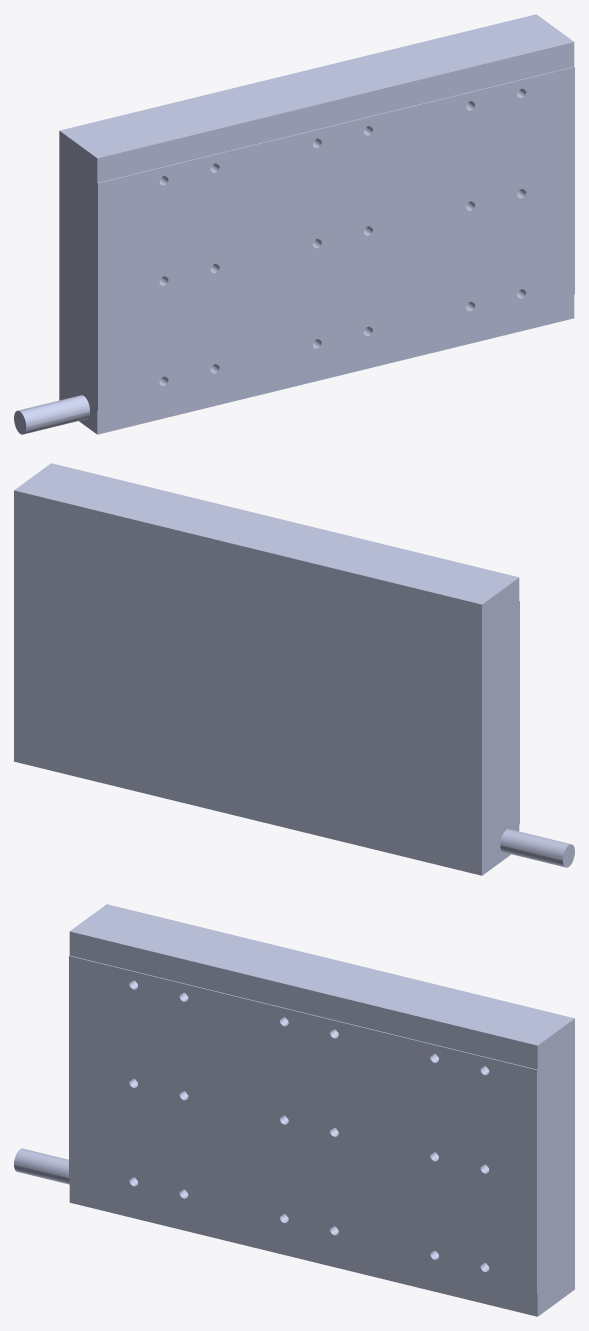
File: MTC-12.glb
3 views of the same model, one above another, from view 1: azimuth 30°, elevation 25°; view 2: azimuth 150°, elevation 25°; view 3: azimuth 330°, elevation 25° (orthographic).
Parts seen in each view (by area): view 1: MTC-12_node_1; view 2: MTC-12_node_1; view 3: MTC-12_node_1.
Part boxes in pixels (left/top/right/bottom): MTC-12_node_1: left=14, top=14, right=574, bottom=434; MTC-12_node_1: left=14, top=463, right=574, bottom=875; MTC-12_node_1: left=14, top=904, right=574, bottom=1316.
Bounding box in the file's own units: 254 × 124 × 31.4.
